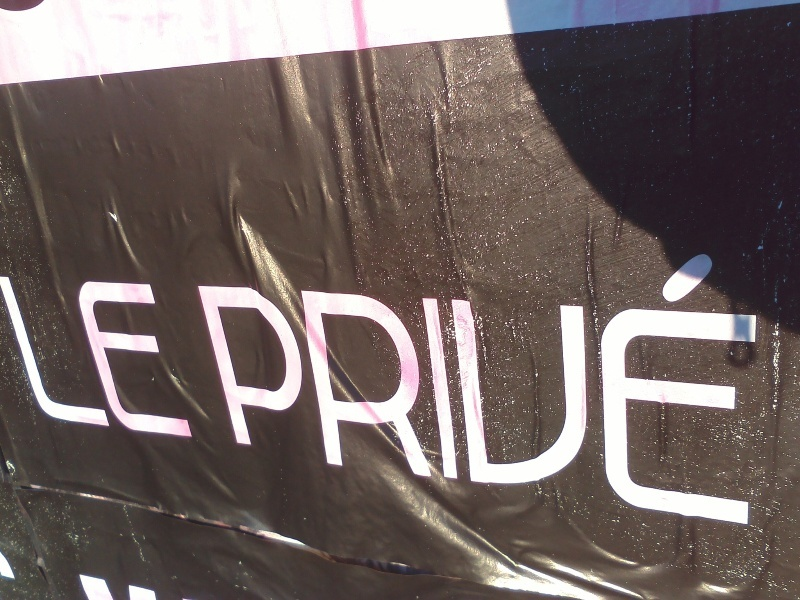text: (209, 250, 224, 535), (225, 250, 240, 535), (241, 250, 256, 535), (257, 250, 272, 535), (273, 250, 288, 535), (289, 250, 304, 535), (305, 250, 320, 535), (321, 250, 336, 535), (337, 250, 352, 535), (353, 250, 368, 535), (369, 250, 384, 535), (385, 250, 400, 535), (401, 250, 416, 535), (417, 250, 432, 535), (433, 250, 448, 535), (449, 250, 464, 535), (465, 250, 480, 535), (481, 250, 496, 535), (497, 250, 512, 535), (513, 250, 528, 535), (529, 250, 544, 535), (545, 250, 560, 535), (561, 250, 576, 535), (577, 250, 592, 535), (593, 250, 608, 535), (609, 250, 624, 535), (625, 250, 640, 535), (641, 250, 656, 535), (657, 250, 672, 535), (673, 250, 688, 535), (689, 250, 704, 535), (705, 250, 720, 535), (721, 250, 736, 535), (737, 250, 752, 535), (197, 250, 208, 535), (1, 277, 16, 440), (17, 277, 32, 440), (33, 277, 48, 440), (49, 277, 64, 440), (65, 277, 80, 440), (81, 277, 96, 440), (97, 277, 112, 440), (113, 277, 128, 440), (129, 277, 144, 440), (145, 277, 160, 440), (161, 277, 176, 440), (177, 277, 192, 440), (753, 250, 759, 535), (193, 277, 195, 440)
